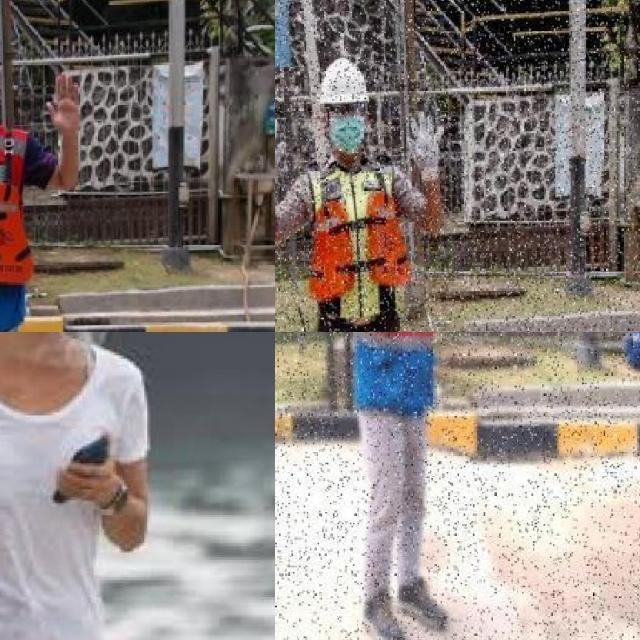apron: (402, 112, 450, 180), (275, 114, 286, 188)
